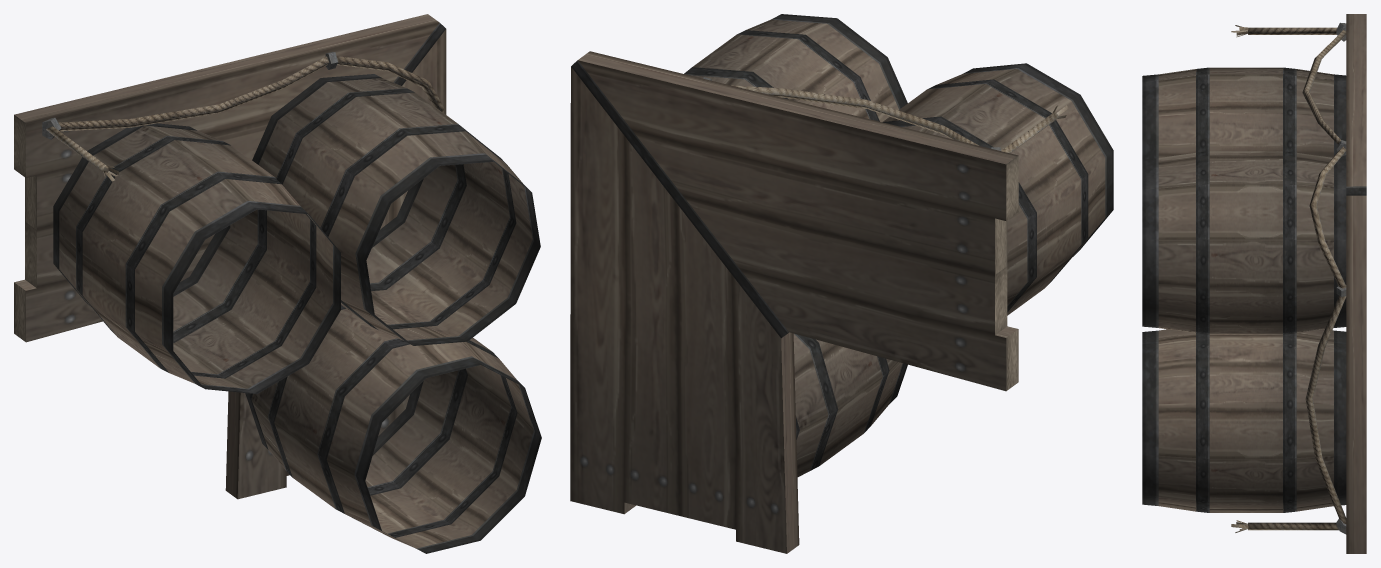
The model's file is Bar_Corner_A.fbx.
3 views of the same model, side by side, from view 1: azimuth 30°, elevation 25°; view 2: azimuth 150°, elevation 25°; view 3: azimuth 270°, elevation 25° (orthographic). The views are drawn at different scales.
Visible parts, largest first — view 1: Bar_Corner_A; view 2: Bar_Corner_A; view 3: Bar_Corner_A.
Part boxes in pixels (left/top/right/bottom): Bar_Corner_A: left=14, top=14, right=541, bottom=553; Bar_Corner_A: left=570, top=14, right=1113, bottom=553; Bar_Corner_A: left=1142, top=14, right=1366, bottom=553.
Bounding box in the file's own units: 2.18 × 2.12 × 1.18.
